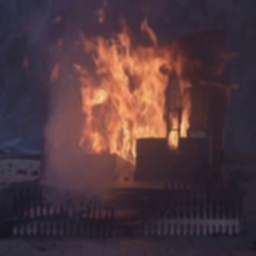fire: (55, 0, 198, 161)
